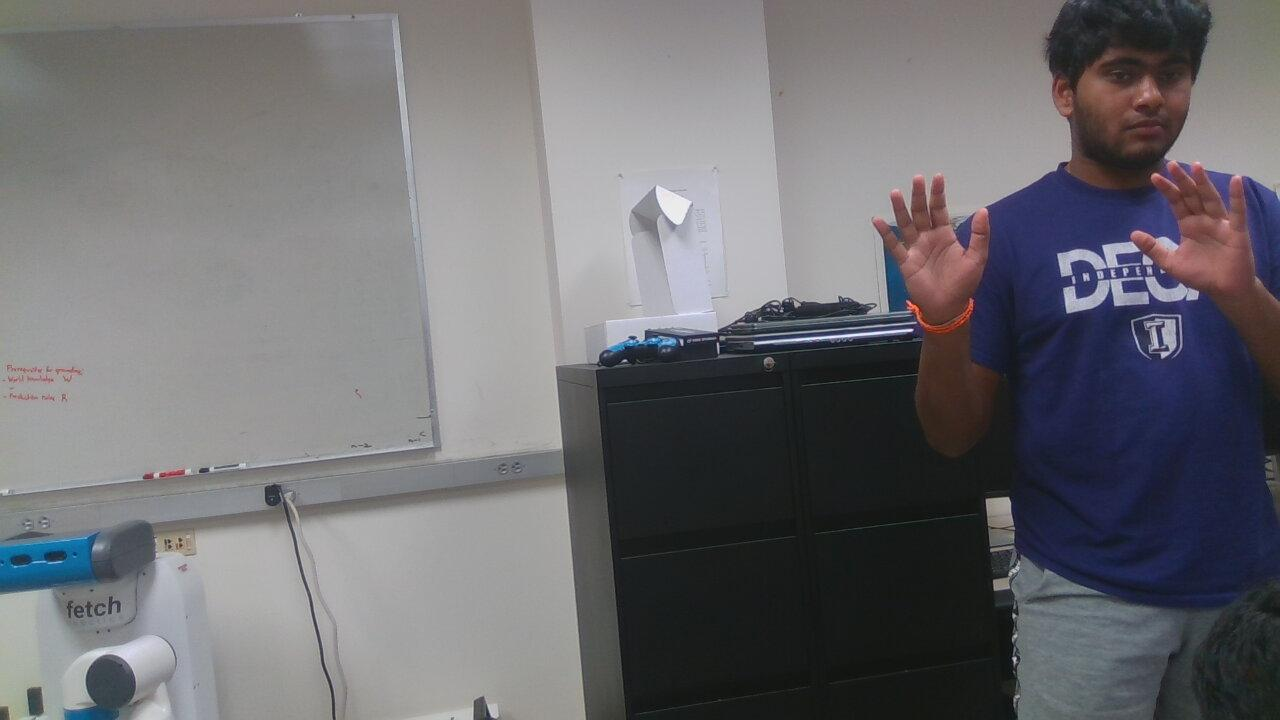hands: (861, 162, 1000, 323), (1133, 152, 1262, 295)
